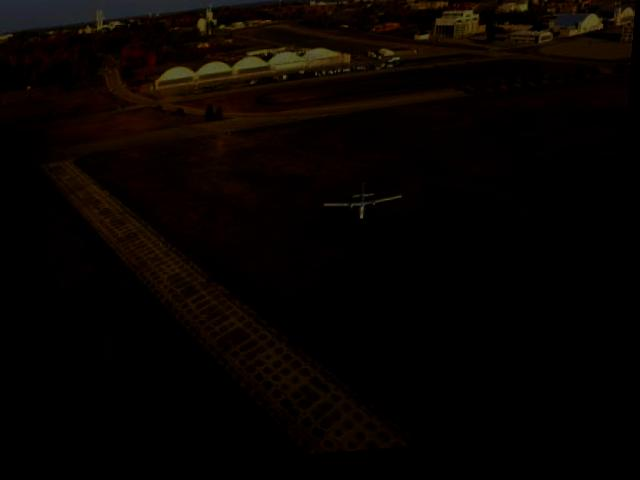uav: (326, 181, 408, 231)
